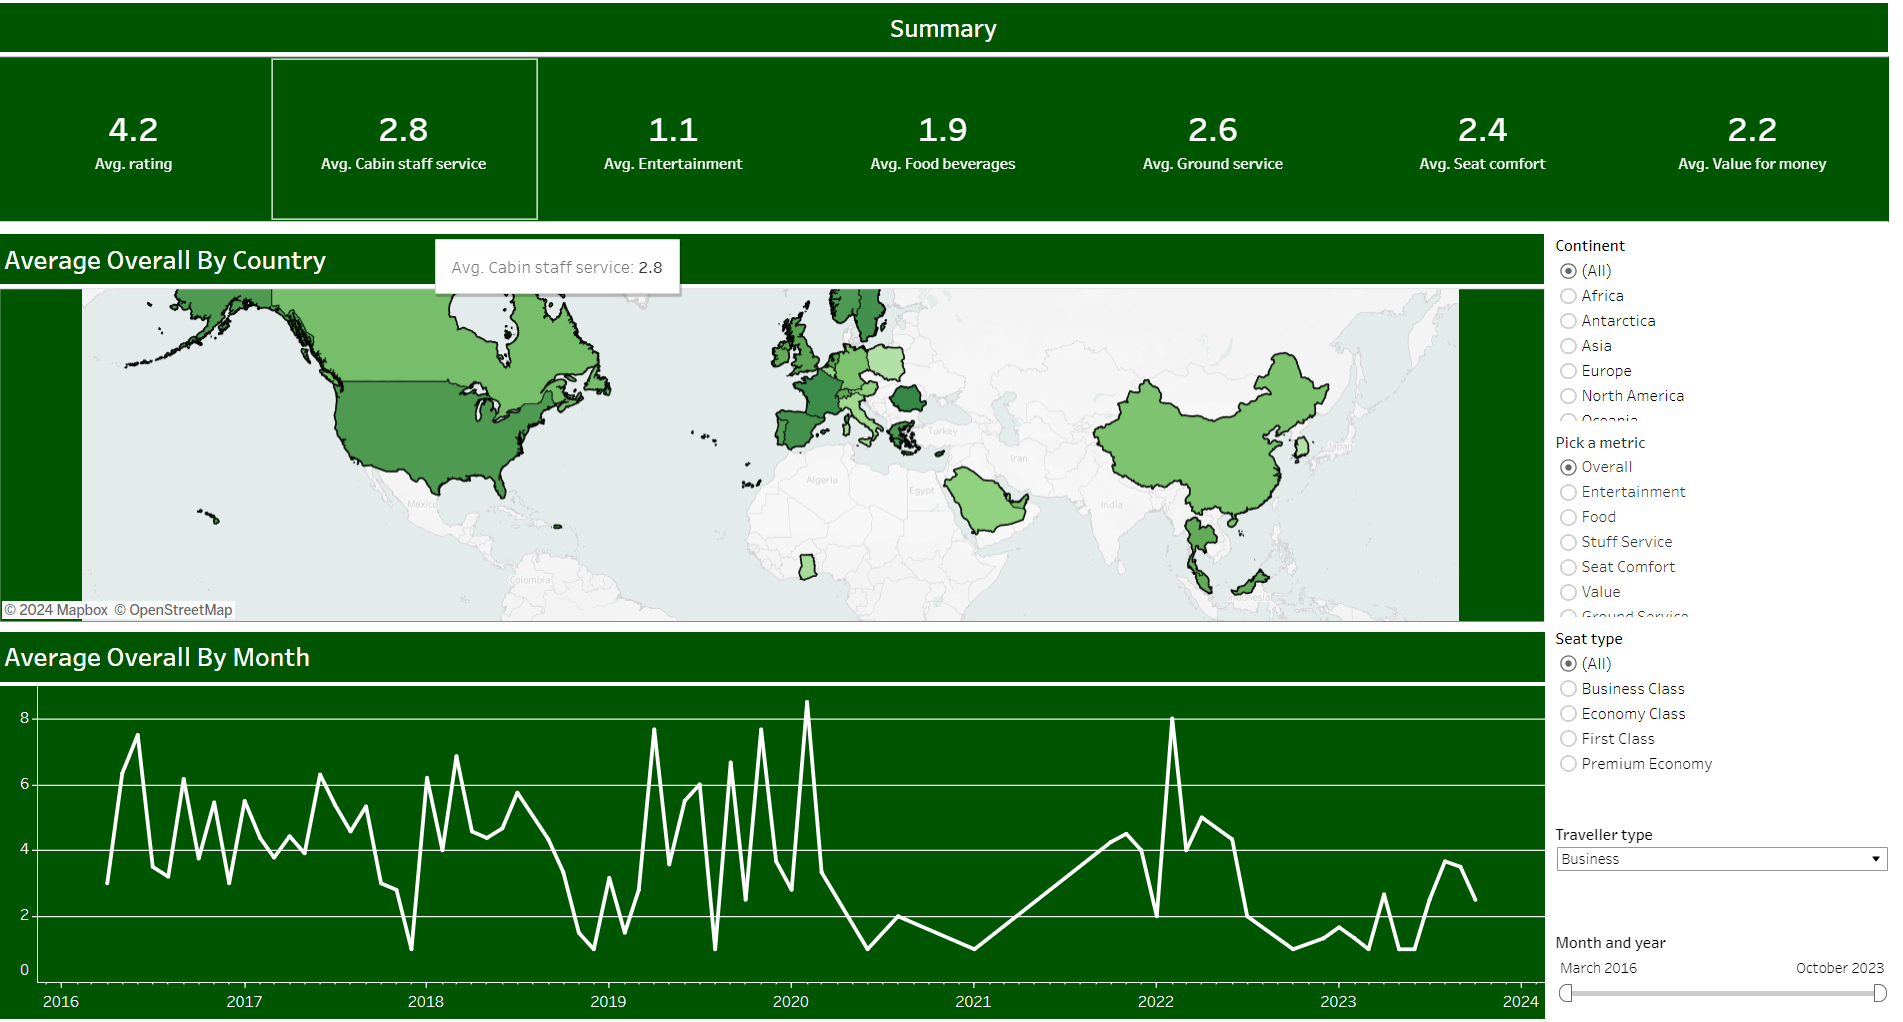

The dashboard page shown, as its layout file describes it:
{"tool":"tableau","page":{"name":"Dashboard 1","canvas":[1000,1000],"units":"permille","ordinal":0},"visuals":[{"type":"worksheet","title":"Summary","mark":"Automatic","box":[4.8,9.3,990.3,220.7]},{"type":"worksheet","title":"Map","mark":"Automatic","box":[4.8,230,823.9,380.4]},{"type":"filter","title":"Map","param":"[federated.1fa1b1p1t6no8612ijpws0kbygp8].[none:Continent:nk]","box":[828.7,230,166.5,189.7]},{"type":"parameter","param":"[Parameters].[Parameter 1]","box":[828.7,419.7,166.5,189.7]},{"type":"filter","title":"Map","param":"[federated.1fa1b1p1t6no8612ijpws0kbygp8].[none:seat_type:nk]","box":[828.7,609.4,166.5,189.7]},{"type":"worksheet","title":"Average By Month","mark":"Automatic","rows":["Calculation_2553822526573584385"],"cols":["date"],"box":[4.8,610.3,823.9,380.4]},{"type":"filter","title":"Map","param":"[federated.1fa1b1p1t6no8612ijpws0kbygp8].[none:traveller_type:nk]","box":[828.7,799.1,166.5,99.9]},{"type":"filter","title":"Map","param":"[federated.1fa1b1p1t6no8612ijpws0kbygp8].[tmn:date:qk]","box":[828.7,899,166.5,91.8]}]}

Visuals, with their boxes on the dashboard's canvas, which has no fixed pixel size, in thousandths of its width and height (x1, y1, x2, y2). These are canvas units, not pixel positions in the 1903x1022 screenshot, which may show the page scaled, cropped or inside an application window:
"Summary" worksheet: bbox=(5, 9, 995, 230)
"Map" worksheet: bbox=(5, 230, 829, 610)
"Map" filter: bbox=(829, 230, 995, 420)
parameter: bbox=(829, 420, 995, 609)
"Map" filter: bbox=(829, 609, 995, 799)
"Average By Month" worksheet: bbox=(5, 610, 829, 991)
"Map" filter: bbox=(829, 799, 995, 899)
"Map" filter: bbox=(829, 899, 995, 991)
